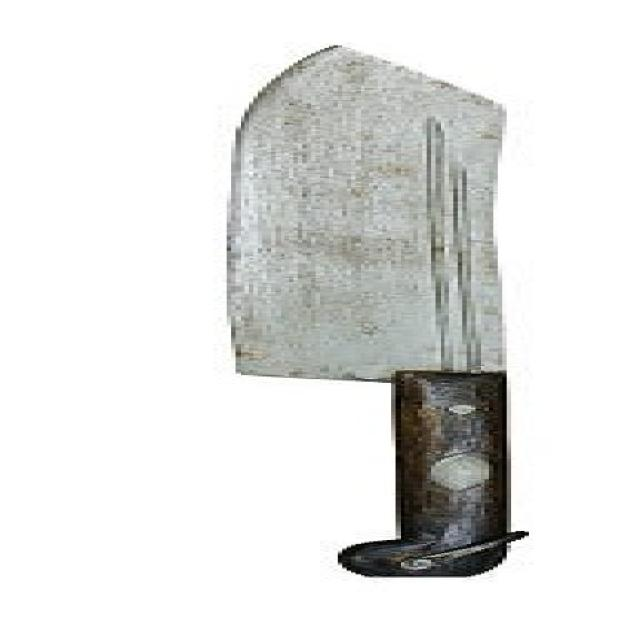knife: (188, 42, 543, 579)
